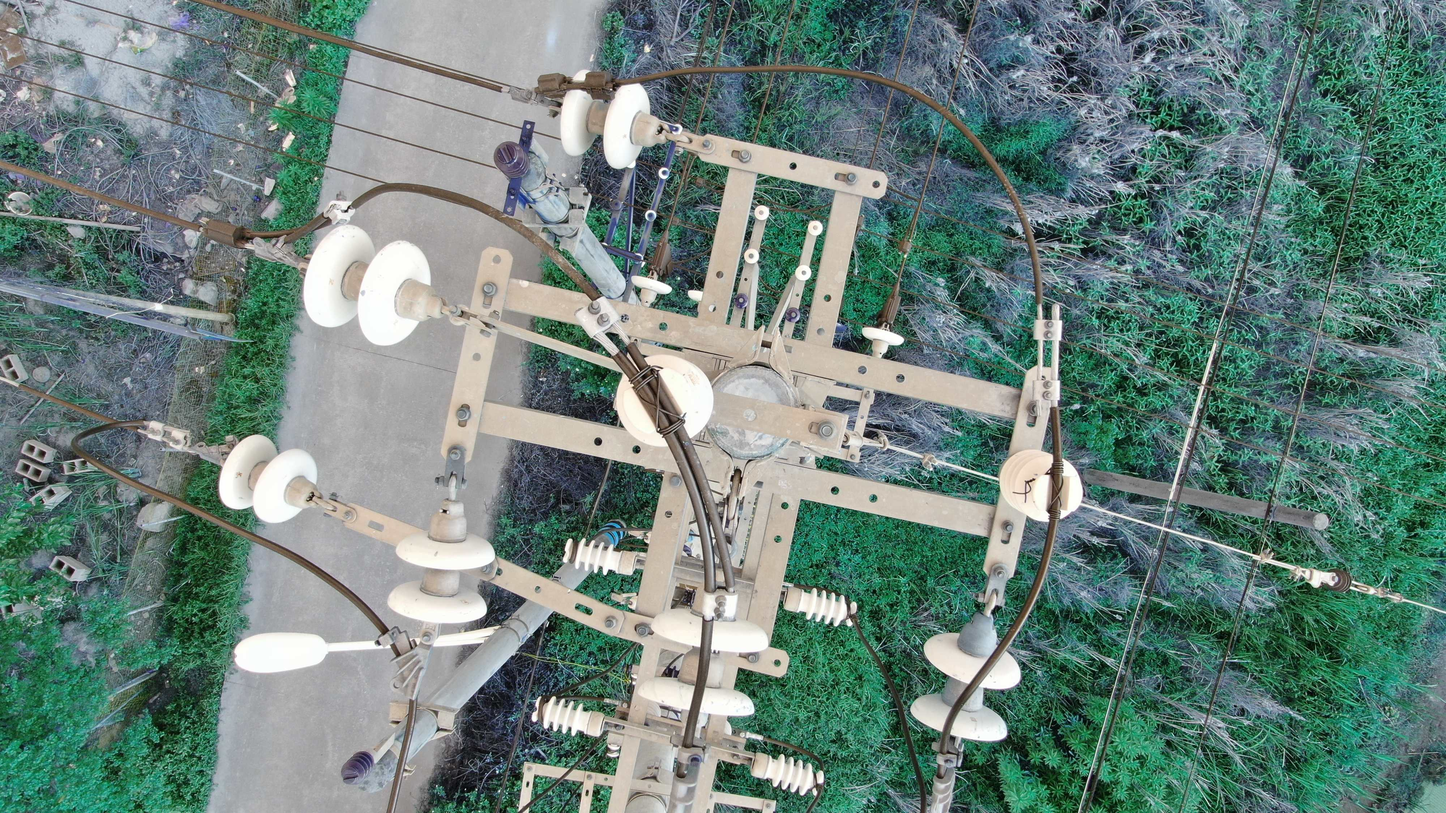severe_soiling_no_discharge_whole: (644, 207, 658, 223)
